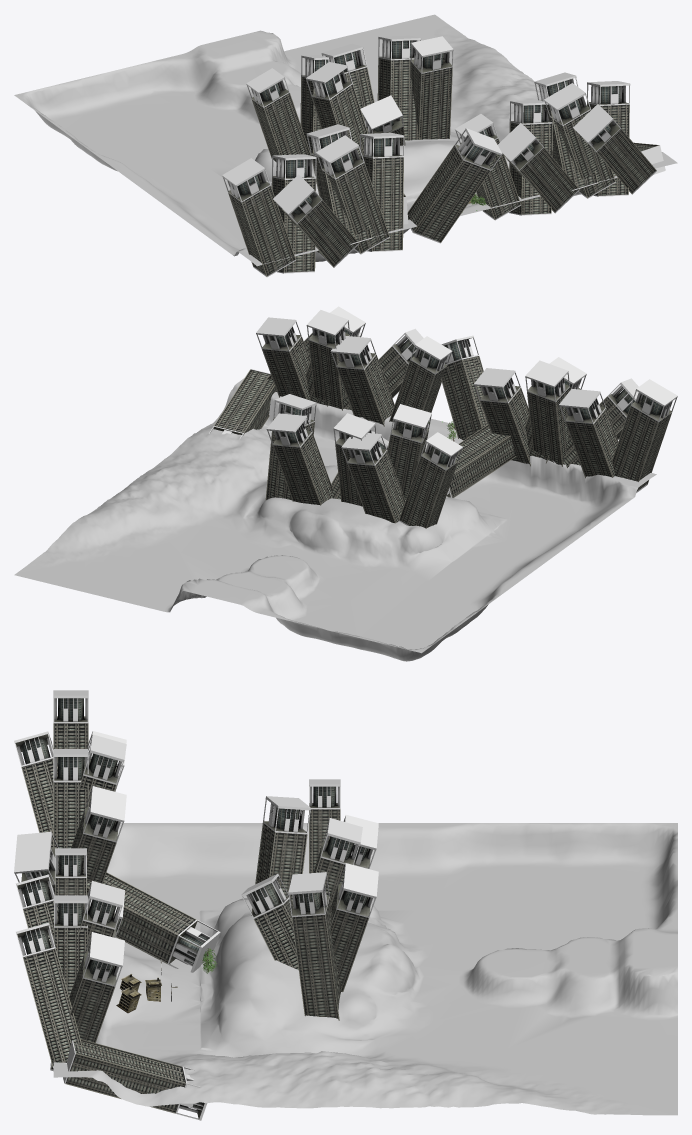
The model's file is terrain_test2.fbx.
The picture shows the model from 3 angles, top to bottom: view 1: azimuth 30°, elevation 25°; view 2: azimuth 150°, elevation 25°; view 3: azimuth 270°, elevation 25°; orthographic projection. The views are drawn at different scales.
Parts seen in each view (by area): view 1: Terrain_QuarterResolution:Mesh, polySurface14, polySurface8, polySurface12, polySurface23, polySurface13, polySurface10, polySurface17, polySurface2, polySurface6, polySurface4, polySurface19 (+11 smaller); view 2: Terrain_QuarterResolution:Mesh, polySurface8, polySurface22, polySurface18, polySurface11, polySurface9, polySurface1, polySurface17, polySurface14, polySurface13, polySurface5, polySurface3 (+10 smaller); view 3: Terrain_QuarterResolution:Mesh, polySurface23, polySurface15, polySurface7, polySurface6, polySurface5, polySurface19, polySurface22, polySurface13, polySurface21, polySurface12, polySurface10 (+10 smaller).
Boxes of the visible parts, x1=… form: Terrain_QuarterResolution:Mesh: x1=14, y1=14, x2=677, y2=266; polySurface14: x1=407, y1=128, x2=502, y2=243; polySurface8: x1=222, y1=158, x2=295, y2=277; polySurface12: x1=316, y1=135, x2=389, y2=254; polySurface23: x1=410, y1=36, x2=453, y2=139; polySurface13: x1=359, y1=132, x2=404, y2=251; polySurface10: x1=273, y1=174, x2=359, y2=267; polySurface17: x1=246, y1=68, x2=310, y2=161; polySurface2: x1=498, y1=123, x2=579, y2=213; polySurface6: x1=573, y1=104, x2=656, y2=194; polySurface4: x1=544, y1=83, x2=615, y2=198; polySurface19: x1=305, y1=62, x2=367, y2=156; Terrain_QuarterResolution:Mesh: x1=14, y1=378, x2=656, y2=661; polySurface8: x1=612, y1=379, x2=677, y2=492; polySurface22: x1=266, y1=413, x2=333, y2=505; polySurface18: x1=341, y1=433, x2=405, y2=523; polySurface11: x1=525, y1=360, x2=570, y2=466; polySurface9: x1=559, y1=389, x2=618, y2=478; polySurface1: x1=330, y1=336, x2=394, y2=426; polySurface17: x1=398, y1=432, x2=462, y2=528; polySurface14: x1=441, y1=335, x2=487, y2=440; polySurface13: x1=473, y1=368, x2=530, y2=466; polySurface5: x1=256, y1=317, x2=310, y2=400; polySurface3: x1=306, y1=310, x2=350, y2=410; Terrain_QuarterResolution:Mesh: x1=53, y1=823, x2=677, y2=1115; polySurface23: x1=288, y1=872, x2=342, y2=1020; polySurface15: x1=87, y1=872, x2=220, y2=972; polySurface7: x1=63, y1=1039, x2=207, y2=1120; polySurface6: x1=16, y1=922, x2=82, y2=1068; polySurface5: x1=50, y1=932, x2=124, y2=1071; polySurface19: x1=251, y1=796, x2=310, y2=916; polySurface22: x1=330, y1=863, x2=378, y2=991; polySurface13: x1=71, y1=786, x2=126, y2=883; polySurface21: x1=241, y1=873, x2=298, y2=969; polySurface12: x1=53, y1=749, x2=88, y2=848; polySurface10: x1=14, y1=731, x2=57, y2=847.
Bounding box in the file's own units: 3152 × 1035 × 3190.
